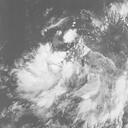cyclone: (13, 43, 73, 111)
